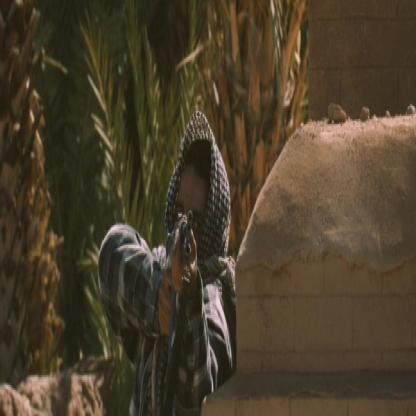Guns: (161, 206, 195, 312)
